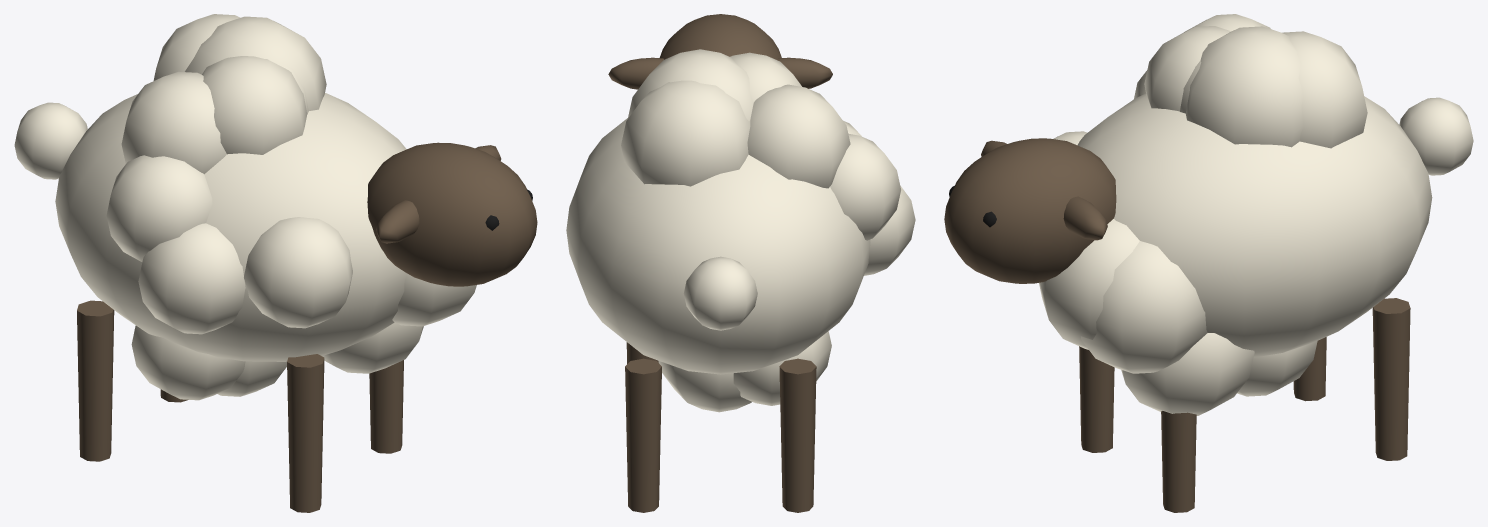
File: sheep.glb
3 renders of one model, left to right at view 1: azimuth 30°, elevation 25°; view 2: azimuth 150°, elevation 25°; view 3: azimuth 270°, elevation 25°, orthographic. The views are drawn at different scales.
Bounding box in the file's own units: 1.21 × 1.43 × 1.62.
